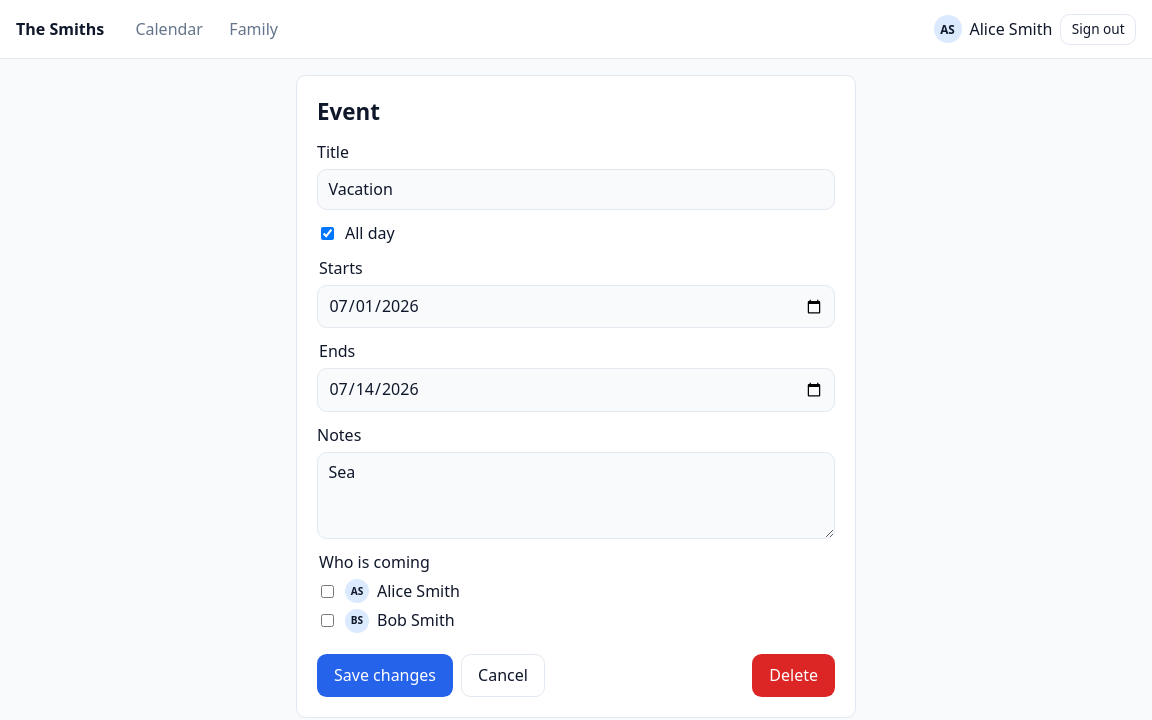
it: event form › loads, deletes and returns to the calendar
Expected: the field showing "Vacation" is shown, 317,169 -> 835,210
Expected: the date field named "end date" holds "2026-07-14", 317,368 -> 835,412
Click the button "Delete" at (794, 676), box 752,654 -> 835,697
(page scrolled)
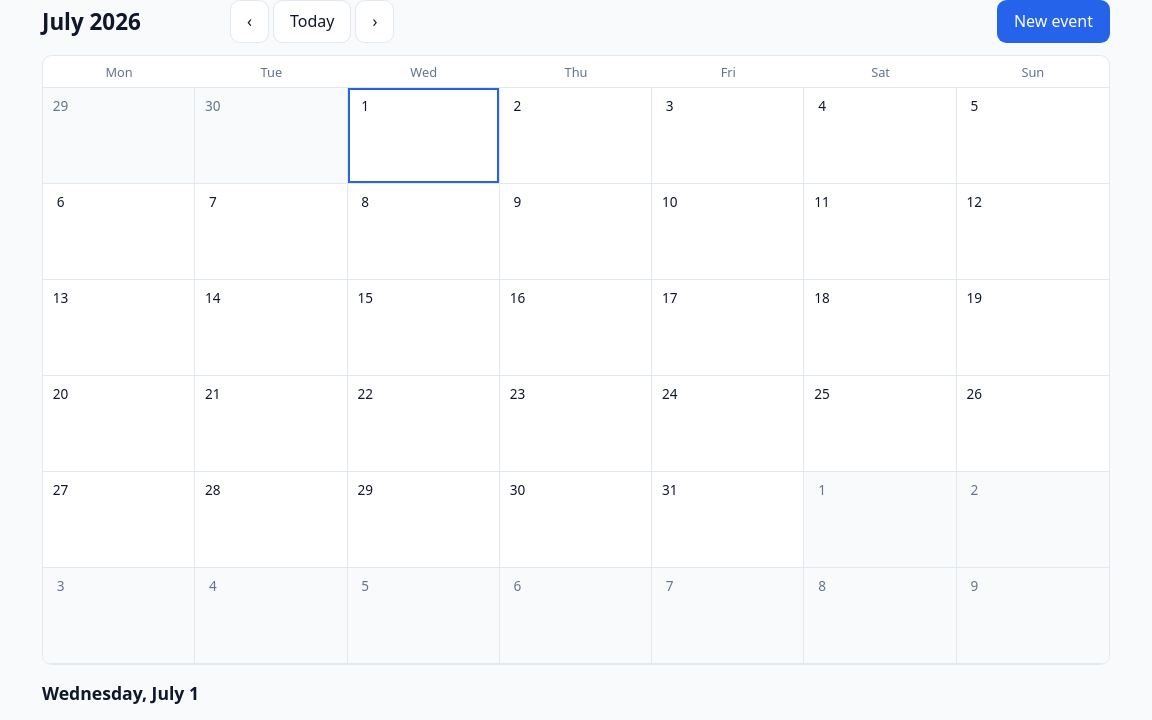
Expected: the table is shown
